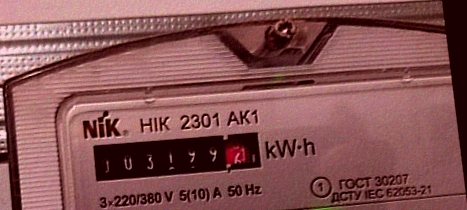0: (120, 150, 135, 171), (98, 153, 112, 175)
1: (164, 145, 176, 165)
3: (143, 150, 156, 171)
6: (232, 149, 244, 166)
9: (185, 143, 198, 164), (206, 143, 219, 163)
screen: (85, 119, 272, 195)
